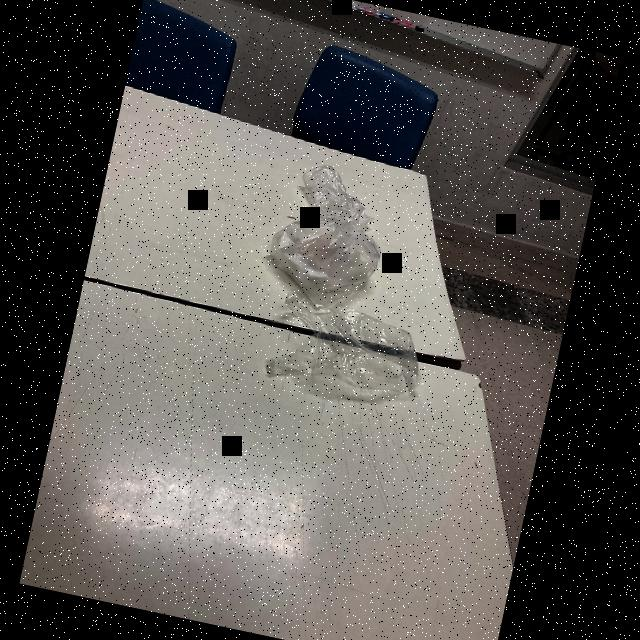plastic_bag: (263, 286, 437, 402), (252, 198, 408, 312)
scrap_plastic: (290, 160, 373, 219)
